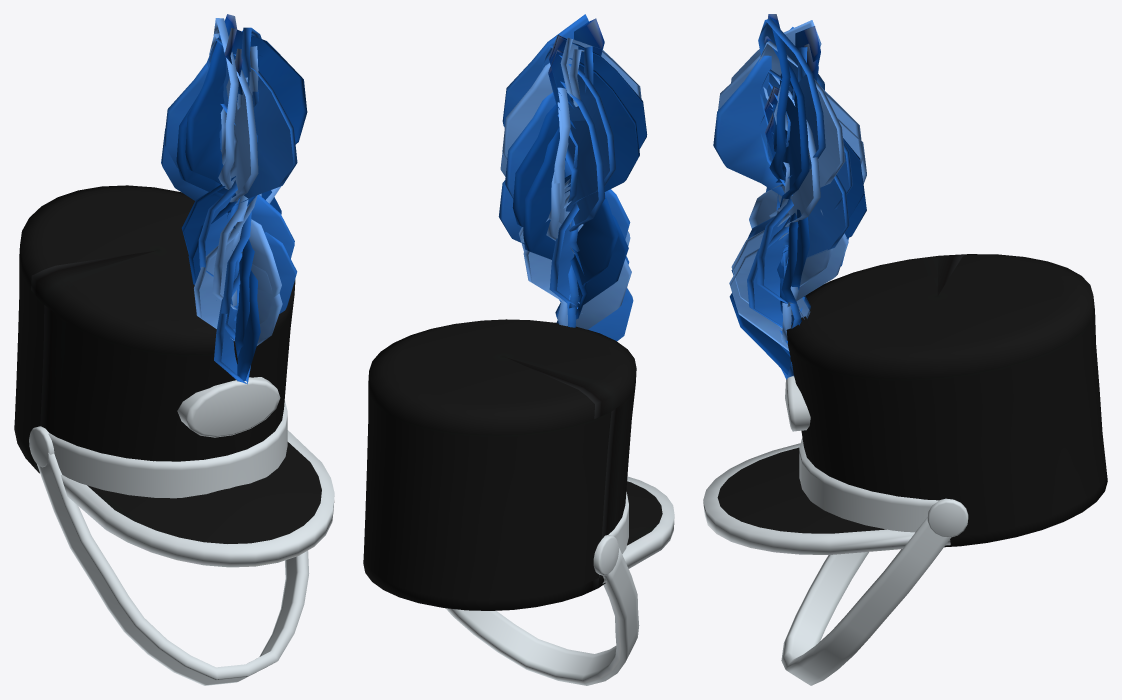
File: lowpoly_marching_band_hat_blue.glb
3 views of the same model, side by side, from view 1: azimuth 30°, elevation 25°; view 2: azimuth 150°, elevation 25°; view 3: azimuth 270°, elevation 25° (orthographic). The views are drawn at different scales.
Visible parts, largest first — view 1: hat_1; view 2: hat_1; view 3: hat_1.
Boxes of the visible parts, x1,y1,x2,y2 form: hat_1: [14, 14, 334, 685]; hat_1: [363, 14, 674, 685]; hat_1: [703, 14, 1107, 685].
Size of the model in its own units: 0.1757 by 0.4766 by 0.2674.
Materials: 10 (10 with a texture image).
